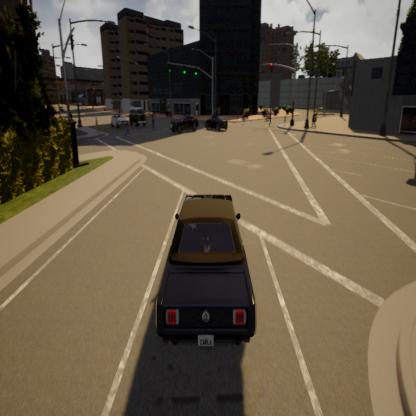Cars: (154, 187, 258, 353), (169, 114, 198, 137), (204, 113, 228, 133), (130, 105, 146, 126), (112, 112, 127, 127)
Pedestrian: (266, 109, 272, 127), (93, 115, 99, 130)
